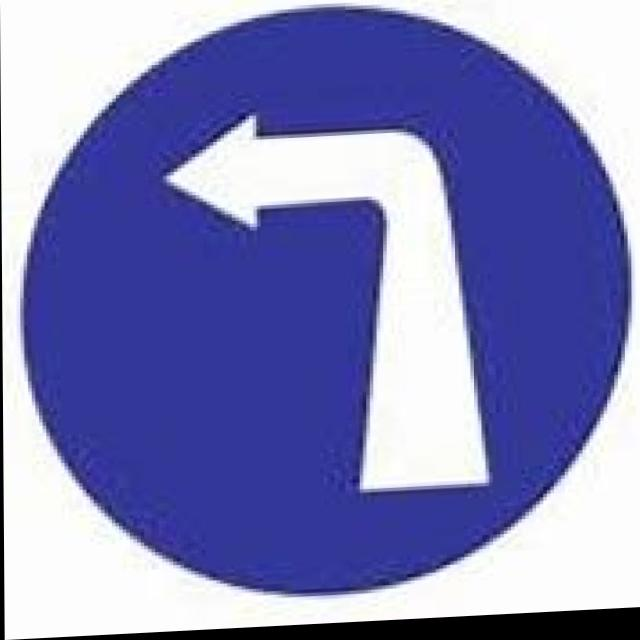COMPULSARY_TURN_LEFT_AHEAD: (17, 0, 629, 614)
